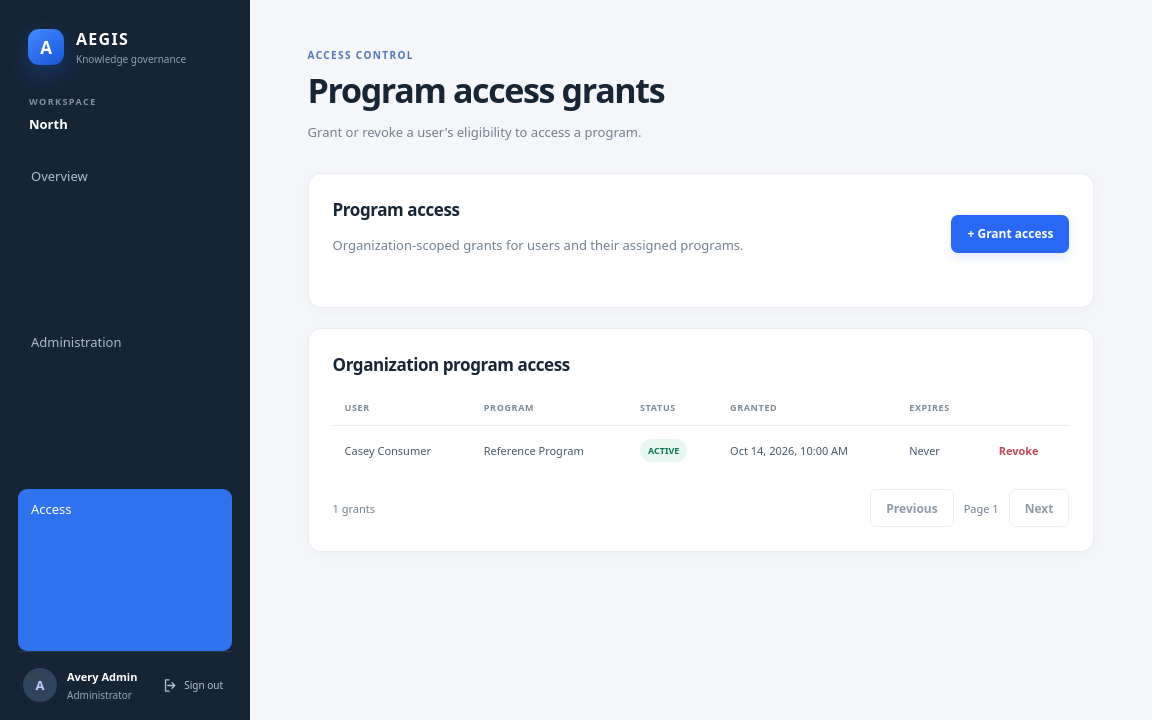
Scenario: administration and access workflows › grants program access to a selected active Content Consumer
The image size is (1152, 720).
expect the text "Casey Consumer" is shown: met, box 333,426 -> 472,475
expect the text "Reference Program" is shown: met, box 472,426 -> 628,475
Click the button "+ Grant access" at (1010,234), box 952,215 -> 1070,253
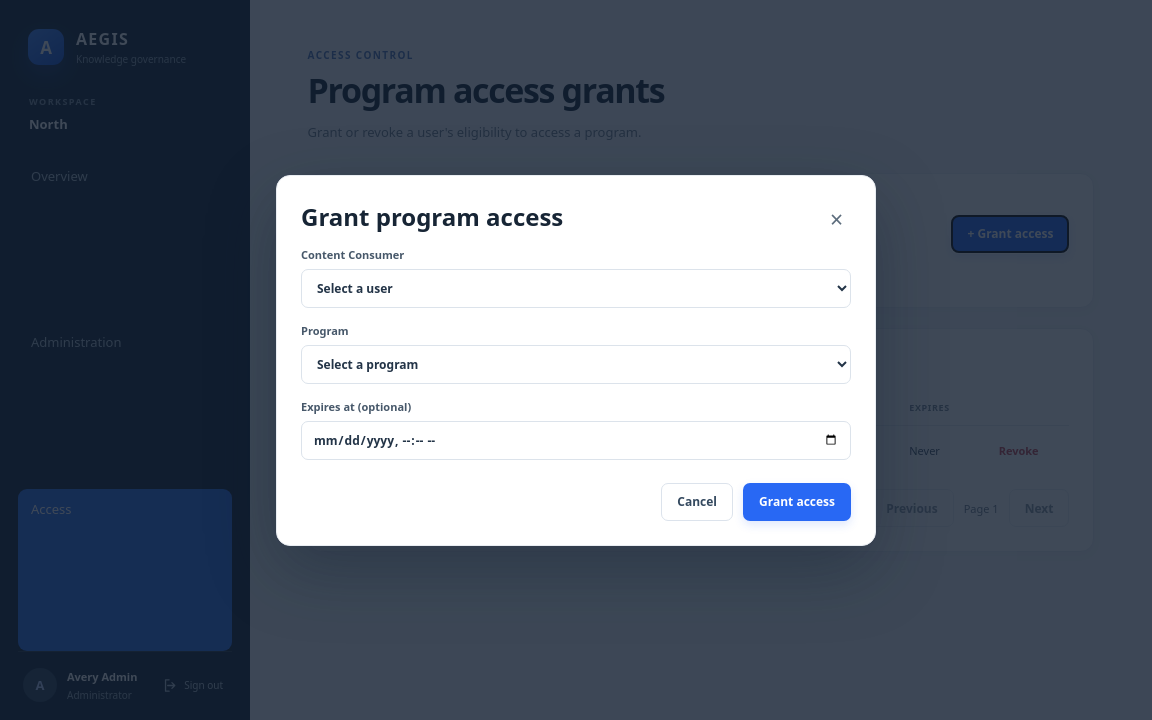
expect the dropdown labelled "Content Consumer" shows "Select a user": met
Select "Casey Consumer — casey@example.test" in the dropdown labelled "Content Consumer" at (576,288), box 301,268 -> 851,308
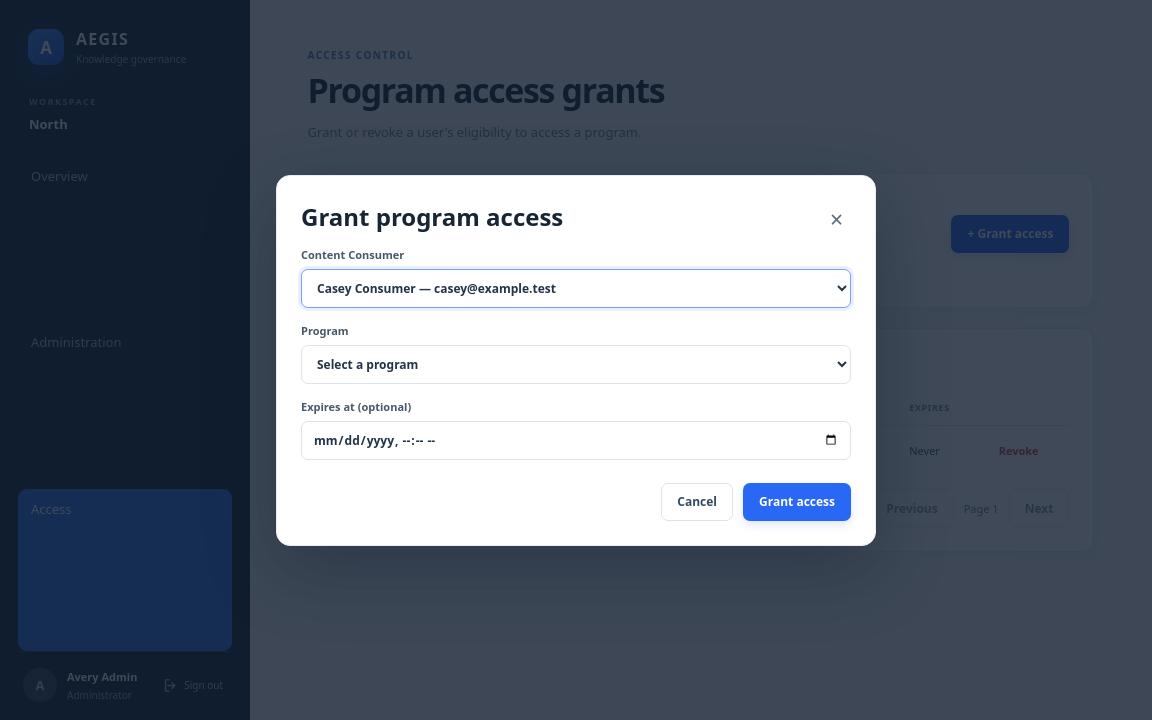
Select "Reference Program" in the dropdown labelled "Program" at (576,364), box 301,344 -> 851,384
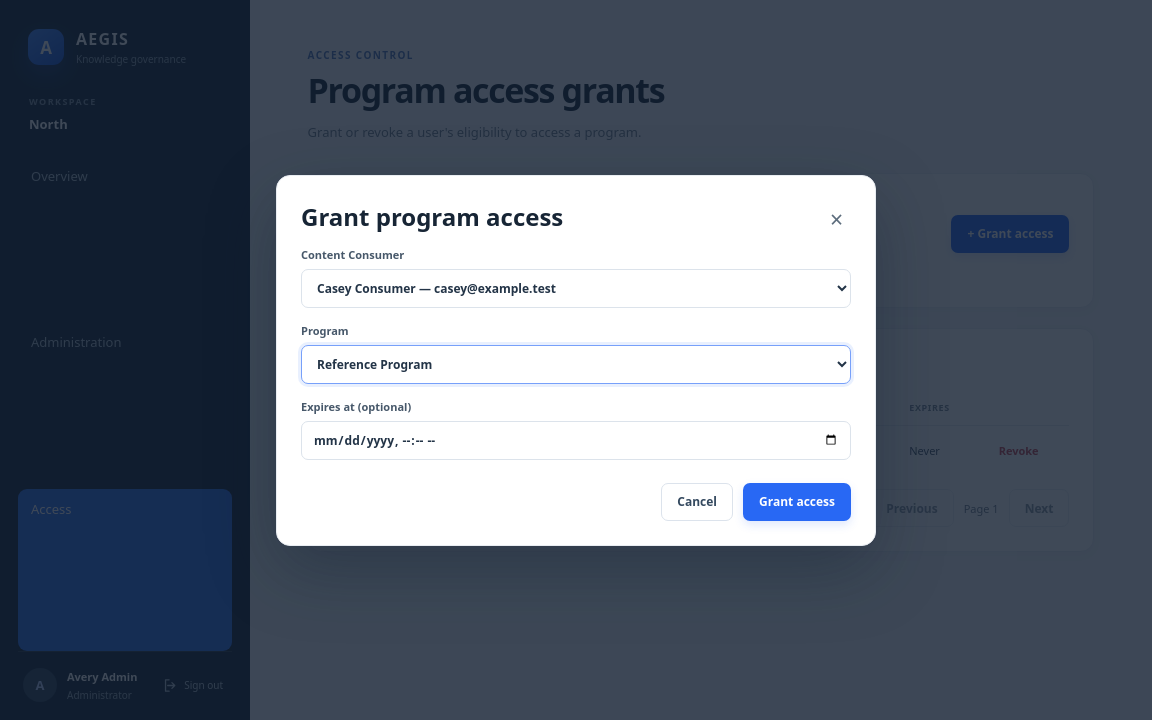
Click the button "Grant access" at (797,502), box 743,482 -> 851,520
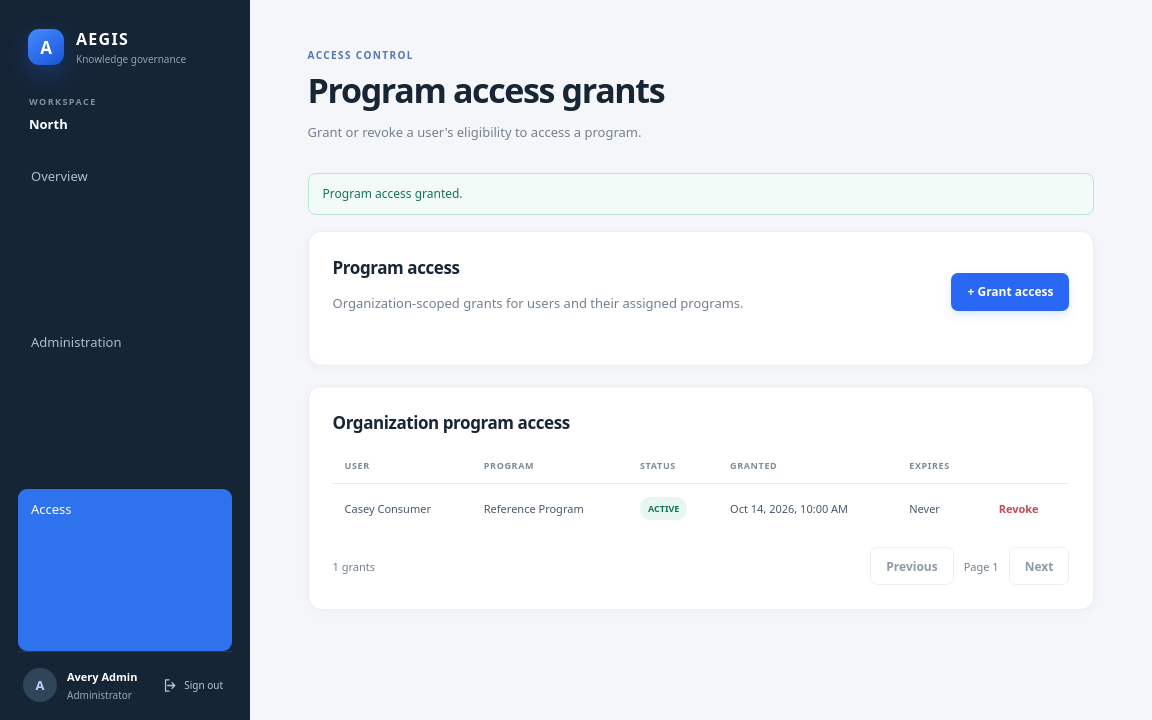
expect the message reads "Program access granted.": met, box 323,185 -> 463,202
